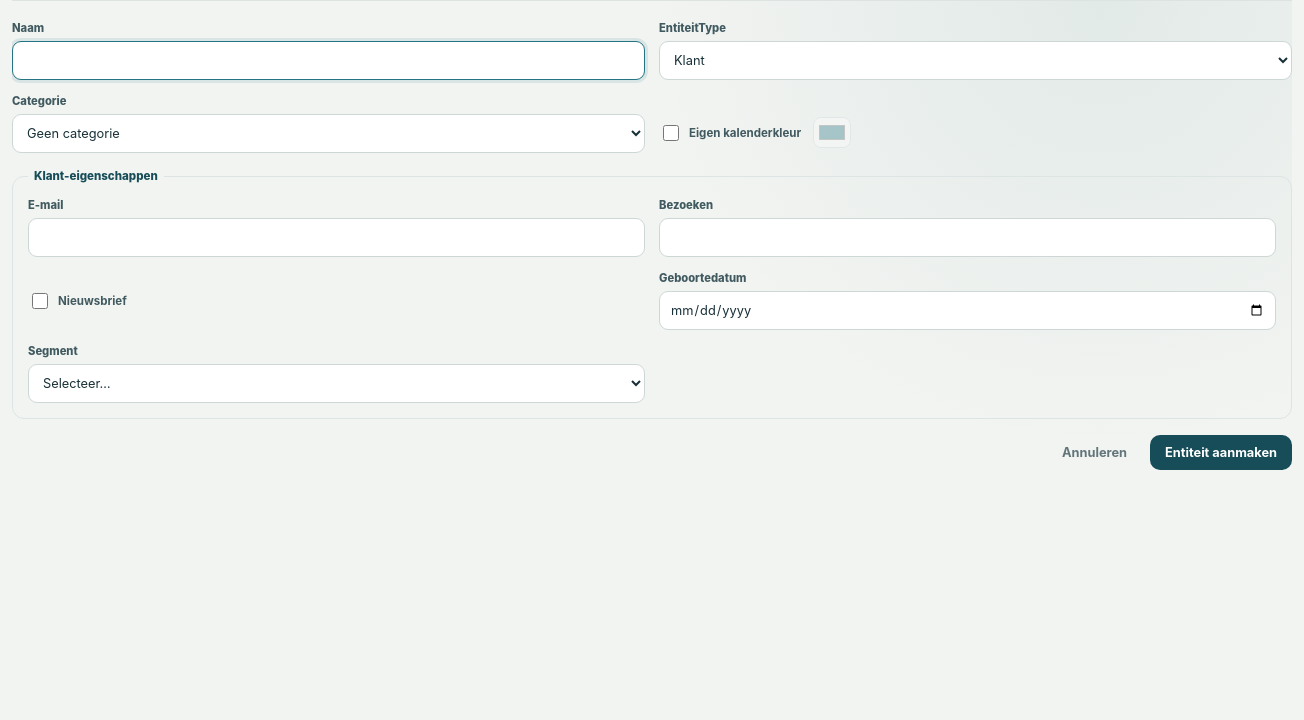
Scenario: EntityForm › valideert verplichte gegenereerde velden
Click the button "Entiteit aanmaken". click: (1221, 452)
box: [1150,435,1292,470]
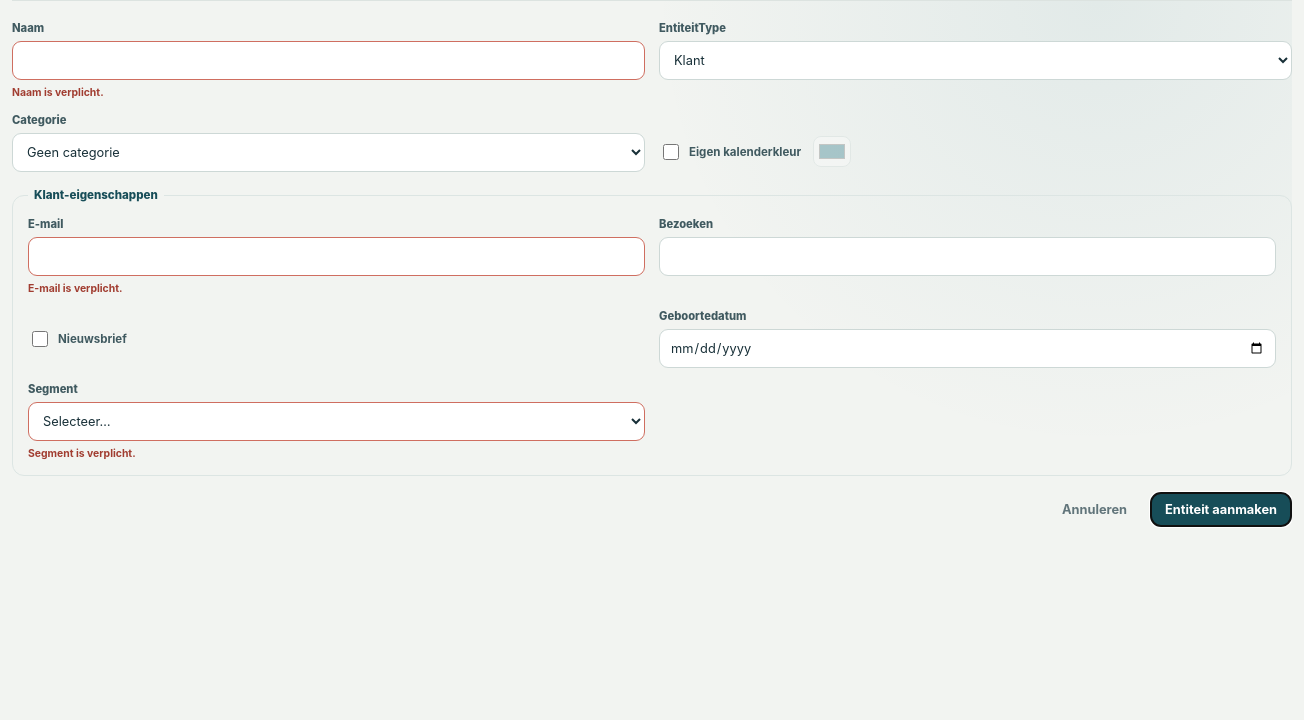
Expected: the text "Naam is verplicht." is shown, [12,86,104,99]
Expected: the text "E-mail is verplicht." is shown, [28,282,122,295]
Expected: the text "Segment is verplicht." is shown, [28,447,136,460]
